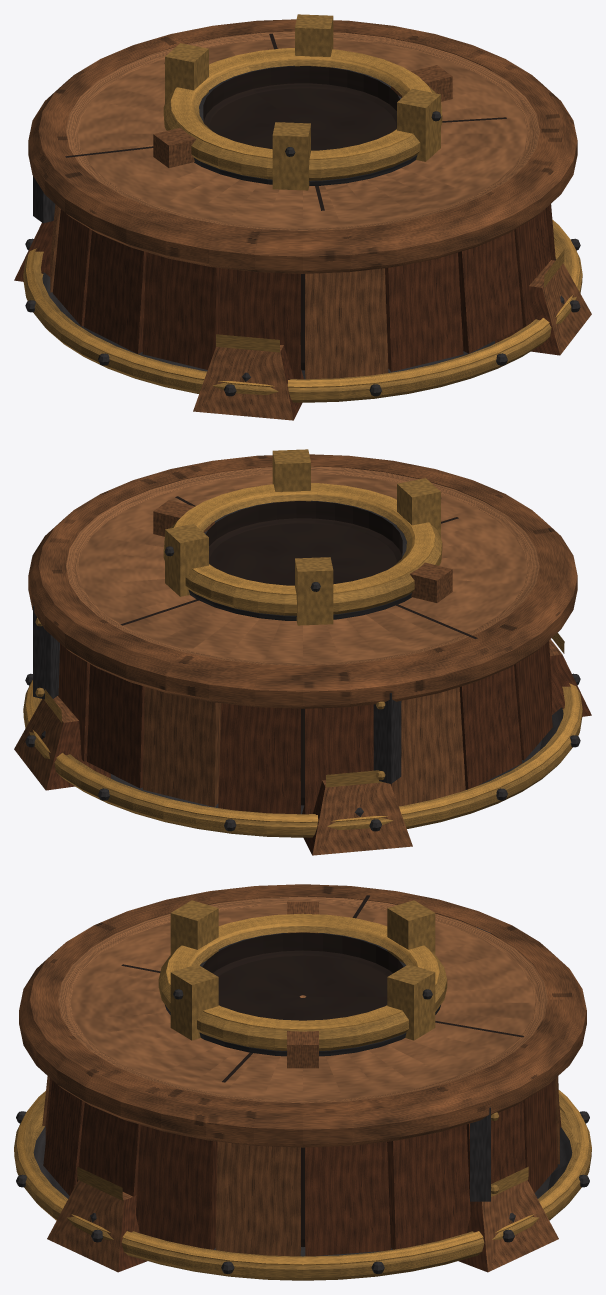
The model's file is TimerPedestal_Body.obj.
3 renders of one model, top to bottom at view 1: azimuth 30°, elevation 25°; view 2: azimuth 150°, elevation 25°; view 3: azimuth 270°, elevation 25°, orthographic. The views are drawn at different scales.
Parts seen in each view (by area): view 1: 01_Rustic_Wood_Staves, 04_Wooden_Top_Face, 03_Wooden_Top_Rim, 15_Candle_Socket_Inner_Shadow, 10_Chunky_Wood_Feet, 06_Base_Brass_Band, 17_Brass_Candle_Clamps, 14_Candle_Socket_Ring, 16_Socket_Bright_Rim, 07_Base_Band_Top_Bevel, 19_Candle_Socket_Wood_Keys, 13_Candle_Socket_Lower_Dark (+5 smaller); view 2: 01_Rustic_Wood_Staves, 04_Wooden_Top_Face, 03_Wooden_Top_Rim, 15_Candle_Socket_Inner_Shadow, 10_Chunky_Wood_Feet, 06_Base_Brass_Band, 17_Brass_Candle_Clamps, 14_Candle_Socket_Ring, 16_Socket_Bright_Rim, 07_Base_Band_Top_Bevel, 28_Corner_Iron_Straps, 19_Candle_Socket_Wood_Keys (+5 smaller); view 3: 01_Rustic_Wood_Staves, 04_Wooden_Top_Face, 03_Wooden_Top_Rim, 15_Candle_Socket_Inner_Shadow, 06_Base_Brass_Band, 17_Brass_Candle_Clamps, 10_Chunky_Wood_Feet, 14_Candle_Socket_Ring, 16_Socket_Bright_Rim, 07_Base_Band_Top_Bevel, 28_Corner_Iron_Straps, 19_Candle_Socket_Wood_Keys (+5 smaller).
Part boxes in pixels (box(x1,y1,x2,y2)): 01_Rustic_Wood_Staves: box(50, 116, 555, 379); 04_Wooden_Top_Face: box(66, 31, 539, 230); 03_Wooden_Top_Rim: box(28, 19, 577, 273); 15_Candle_Socket_Inner_Shadow: box(203, 66, 399, 150); 10_Chunky_Wood_Feet: box(14, 221, 591, 420); 06_Base_Brass_Band: box(23, 223, 582, 402); 17_Brass_Candle_Clamps: box(165, 14, 440, 190); 14_Candle_Socket_Ring: box(163, 59, 442, 180); 16_Socket_Bright_Rim: box(171, 48, 431, 159); 07_Base_Band_Top_Bevel: box(26, 219, 579, 387); 19_Candle_Socket_Wood_Keys: box(153, 65, 452, 167); 13_Candle_Socket_Lower_Dark: box(194, 65, 417, 185); 01_Rustic_Wood_Staves: box(58, 554, 552, 814); 04_Wooden_Top_Face: box(66, 466, 539, 665); 03_Wooden_Top_Rim: box(28, 454, 577, 708); 15_Candle_Socket_Inner_Shadow: box(206, 501, 402, 585); 10_Chunky_Wood_Feet: box(14, 639, 591, 855); 06_Base_Brass_Band: box(23, 680, 582, 837); 17_Brass_Candle_Clamps: box(165, 449, 440, 625); 14_Candle_Socket_Ring: box(163, 494, 442, 615); 16_Socket_Bright_Rim: box(174, 483, 434, 594); 07_Base_Band_Top_Bevel: box(26, 680, 579, 822); 28_Corner_Iron_Straps: box(33, 605, 401, 783); 19_Candle_Socket_Wood_Keys: box(153, 500, 452, 602); 01_Rustic_Wood_Staves: box(42, 1076, 561, 1256); 04_Wooden_Top_Face: box(58, 896, 547, 1103); 03_Wooden_Top_Rim: box(19, 884, 586, 1147); 15_Candle_Socket_Inner_Shadow: box(202, 932, 403, 1020); 06_Base_Brass_Band: box(14, 1093, 591, 1280); 17_Brass_Candle_Clamps: box(170, 900, 435, 1040); 10_Chunky_Wood_Feet: box(47, 1180, 558, 1272); 14_Candle_Socket_Ring: box(158, 926, 447, 1050); 16_Socket_Bright_Rim: box(166, 913, 439, 1030); 07_Base_Band_Top_Bevel: box(16, 1090, 589, 1265); 28_Corner_Iron_Straps: box(470, 927, 490, 1201); 19_Candle_Socket_Wood_Keys: box(287, 901, 318, 1068).
Size of the model in its own units: 1.79 by 0.788 by 1.79.
Materials: 7 (7 with a texture image).
